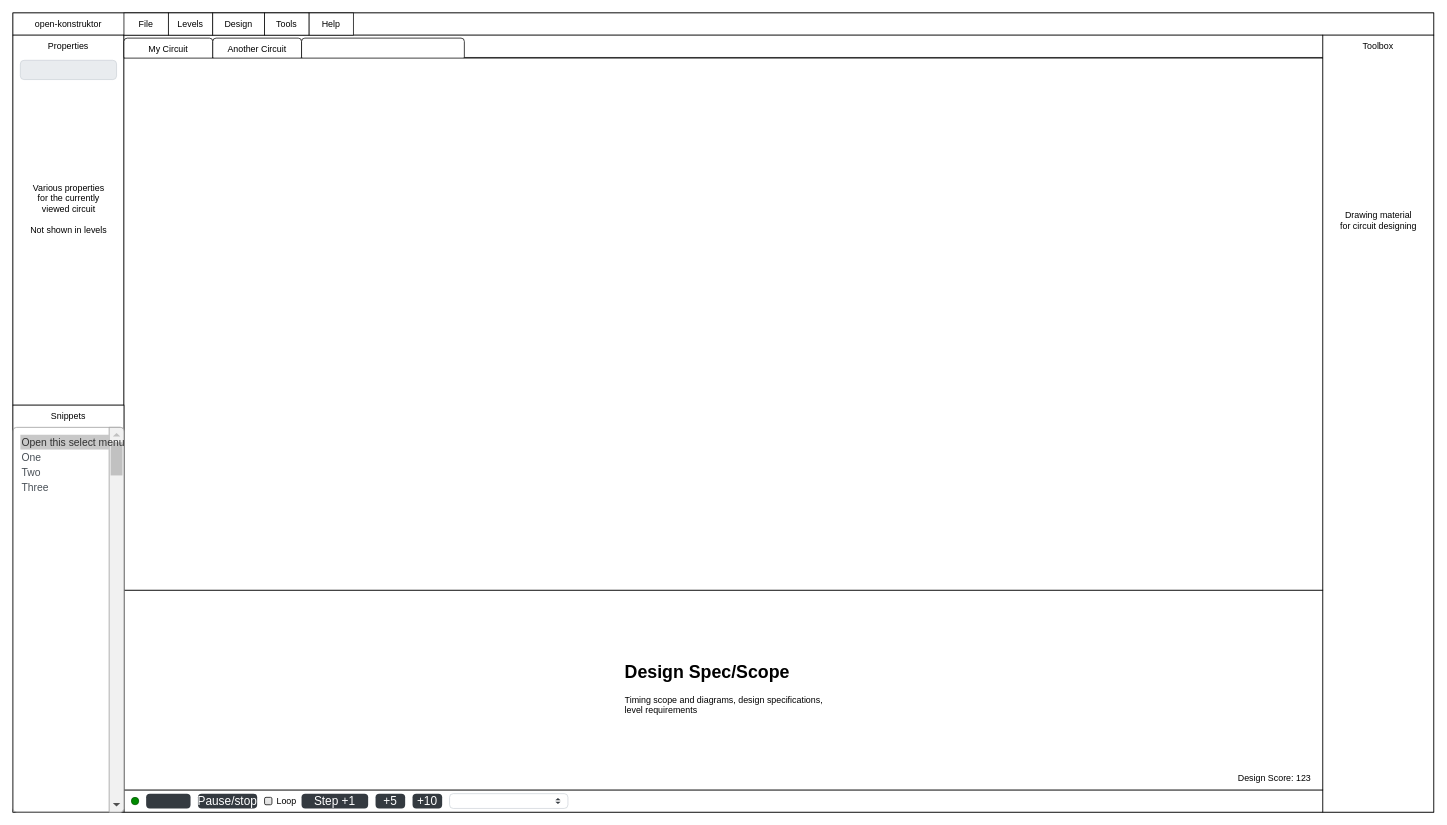
The diagram is 1447 pixels wide and 825 high, and some of its shapes have lost their labels. The shapes that lost their labels are listed below. From the top down, each one's centre as x and y in pixels, then its label:
At pixel 382 48: "04 KO229 - KOHCTPYKTOP".
At pixel 68 70: "Name".
At pixel 723 323: "Workspace Workspace for the currently viewed circuit".
At pixel 68 619: "Saved design snippets".
At pixel 168 800: "Start".
At pixel 508 800: "40 Hz (Classic)".
